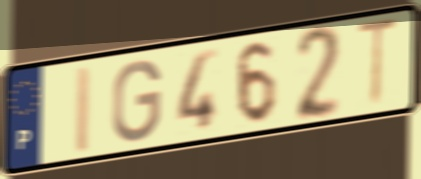2: (293, 20, 343, 129)
4: (174, 47, 221, 134)
6: (234, 38, 280, 127)
G: (109, 57, 165, 145)
I: (71, 62, 95, 158)
T: (353, 15, 402, 112)
